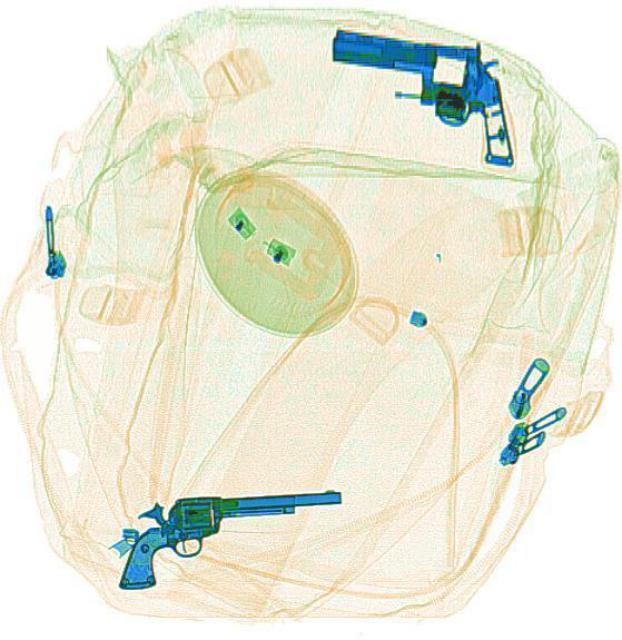Gun: (316, 29, 525, 163), (111, 485, 344, 589)
